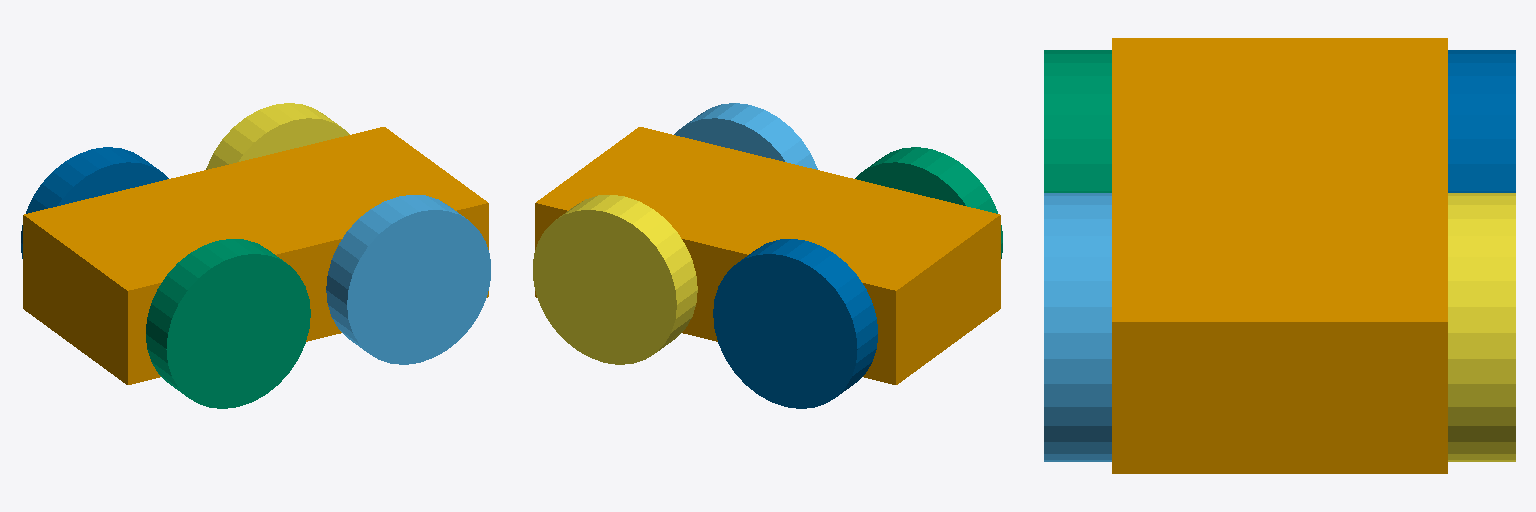
URDF robot description (labrob):
<robot name="labrob">
  <!-- Base link -->
  <link name="base_link">
    <visual>
      <origin xyz="0 0 0" rpy="0 0 0" />
      <geometry>
          <box size="1 0.5 0.25"/>
      </geometry>
    </visual>
  </link>
  <!-- Front Right Wheel -->
  <link name="f_r_wheel">
    <visual>
      <origin xyz="0 0 0" rpy="1.570795 0 0" />
      <geometry>
          <cylinder length="0.1" radius="0.2" />
      </geometry>
    </visual>
  </link>
  <joint name="joint_f_r_wheel" type="continuous">
    <parent link="base_link"/>
    <child link="f_r_wheel"/>
    <origin xyz="0.25 -0.30 0" rpy="0 0 0" /> 
    <axis xyz="0 1 0" rpy="0 0 0" />
  </joint>  
  <!-- Back Right Wheel -->
  <link name="b_r_wheel">
    <visual>
      <origin xyz="0 0 0" rpy="1.570795 0 0" />
      <geometry>
          <cylinder length="0.1" radius="0.2" />
      </geometry>
    </visual>
  </link>
  <joint name="joint_b_r_wheel" type="continuous">
    <parent link="base_link"/>
    <child link="b_r_wheel"/>
    <origin xyz="-0.25 -0.30 0" rpy="0 0 0" /> 
    <axis xyz="0 1 0" rpy="0 0 0" />
  </joint>  
  <!-- Front Left Wheel -->
  <link name="f_l_wheel">
    <visual>
      <origin xyz="0 0 0" rpy="1.570795 0 0" />
      <geometry>
          <cylinder length="0.1" radius="0.2" />
      </geometry>
    </visual>
  </link>
  <joint name="joint_f_l_wheel" type="continuous">
    <parent link="base_link"/>
    <child link="f_l_wheel"/>
    <origin xyz="0.25 0.30 0" rpy="0 0 0" /> 
    <axis xyz="0 1 0" rpy="0 0 0" />
  </joint>
  <!-- Back Left Wheel -->
  <link name="b_l_wheel">
    <visual>
      <origin xyz="0 0 0" rpy="1.570795 0 0" />
      <geometry>
          <cylinder length="0.1" radius="0.2" />
      </geometry>
    </visual>
  </link>
  <joint name="joint_b_l_wheel" type="continuous">
    <parent link="base_link"/>
    <child link="b_l_wheel"/>
    <origin xyz="-0.25 0.30 0" rpy="0 0 0" /> 
    <axis xyz="0 1 0" rpy="0 0 0" />
  </joint>
</robot>

--- Render facts (derived) ---
Views: 3 orthographic renders of the robot side by side, from view 1: azimuth 30°, elevation 25°; view 2: azimuth 150°, elevation 25°; view 3: azimuth 270°, elevation 25°.
Robot: labrob — 5 links, 4 joints (4 continuous); root link base_link; default pose: all joints at 0.
Links seen in each view (by area): view 1: base_link, b_r_wheel, f_r_wheel, b_l_wheel, f_l_wheel; view 2: base_link, b_l_wheel, f_l_wheel, b_r_wheel, f_r_wheel; view 3: base_link, f_r_wheel, f_l_wheel, b_r_wheel, b_l_wheel.
Link boxes in pixels (left/top/right/bottom): base_link: left=23, top=127, right=488, bottom=384; b_r_wheel: left=146, top=239, right=310, bottom=408; f_r_wheel: left=326, top=195, right=490, bottom=364; b_l_wheel: left=21, top=147, right=168, bottom=258; f_l_wheel: left=206, top=103, right=349, bottom=169; base_link: left=535, top=127, right=1000, bottom=384; b_l_wheel: left=713, top=239, right=877, bottom=408; f_l_wheel: left=533, top=195, right=697, bottom=364; b_r_wheel: left=855, top=147, right=1002, bottom=258; f_r_wheel: left=674, top=103, right=817, bottom=169; base_link: left=1112, top=38, right=1447, bottom=473; f_r_wheel: left=1044, top=193, right=1111, bottom=461; f_l_wheel: left=1448, top=193, right=1515, bottom=461; b_r_wheel: left=1044, top=50, right=1111, bottom=192; b_l_wheel: left=1448, top=50, right=1515, bottom=192.
Bounding box of the posed robot: 1 × 0.7 × 0.4 m (x, y, z).
Geometry: primitives only (box / cylinder / sphere), no mesh files.